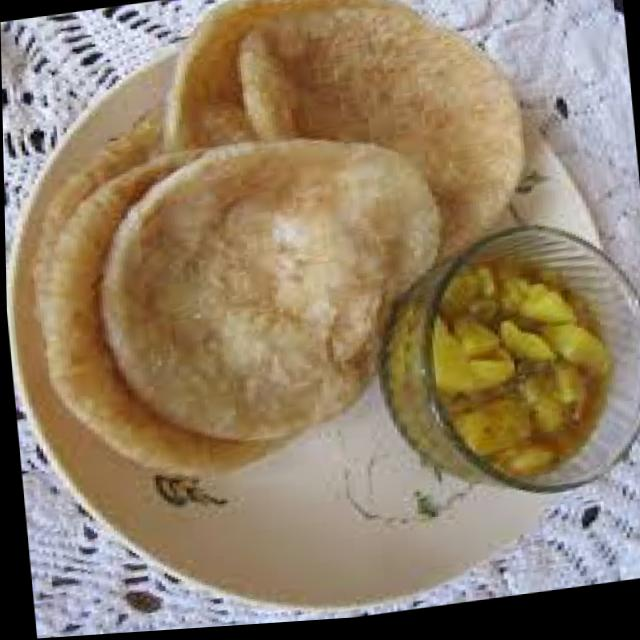CURRY: (433, 250, 613, 479)
POORI: (26, 0, 526, 483)
